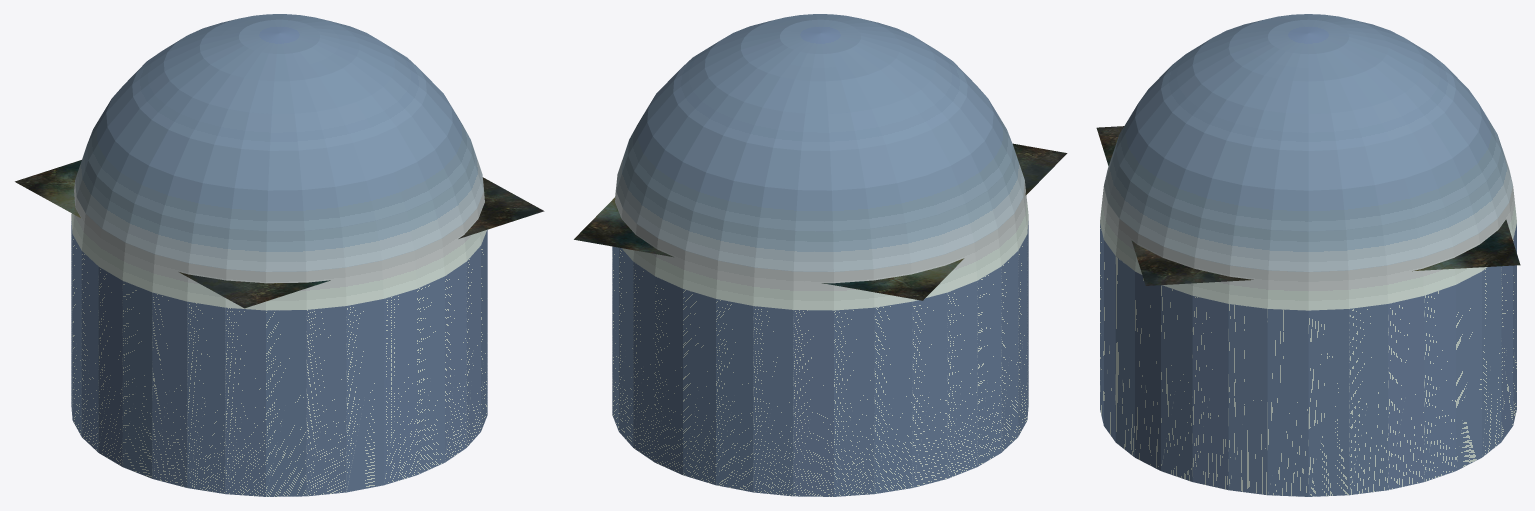
The picture shows the model from 3 angles, left to right: view 1: azimuth 30°, elevation 25°; view 2: azimuth 150°, elevation 25°; view 3: azimuth 270°, elevation 25°; orthographic projection.
Visible parts, largest first — view 1: Sky01, R_WaterPlane; view 2: Sky01, R_WaterPlane; view 3: Sky01, R_WaterPlane.
Boxes of the visible parts, x1,y1,x2,y2 form: Sky01: (71, 14, 487, 496); R_WaterPlane: (15, 160, 544, 308); Sky01: (612, 14, 1028, 496); R_WaterPlane: (574, 143, 1067, 300); Sky01: (1100, 14, 1516, 496); R_WaterPlane: (1096, 126, 1520, 285).
Size of the model in its own units: 22.44 by 21.92 by 22.44.
